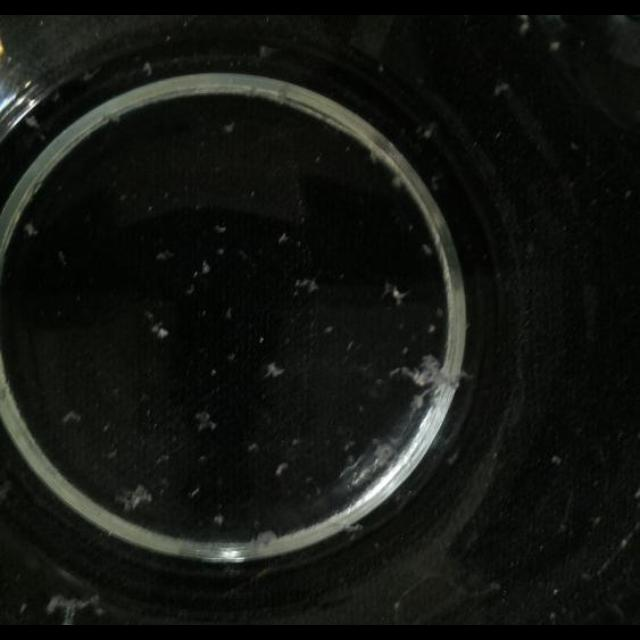Fibre: (404, 351, 468, 402), (44, 591, 104, 623), (120, 483, 154, 512), (382, 280, 408, 306), (195, 411, 218, 434), (294, 275, 320, 295), (150, 320, 170, 340), (62, 411, 82, 425), (156, 249, 174, 261), (222, 122, 234, 134), (200, 260, 210, 274)
microbeads: (264, 362, 284, 378), (275, 462, 289, 478), (24, 222, 38, 236)
